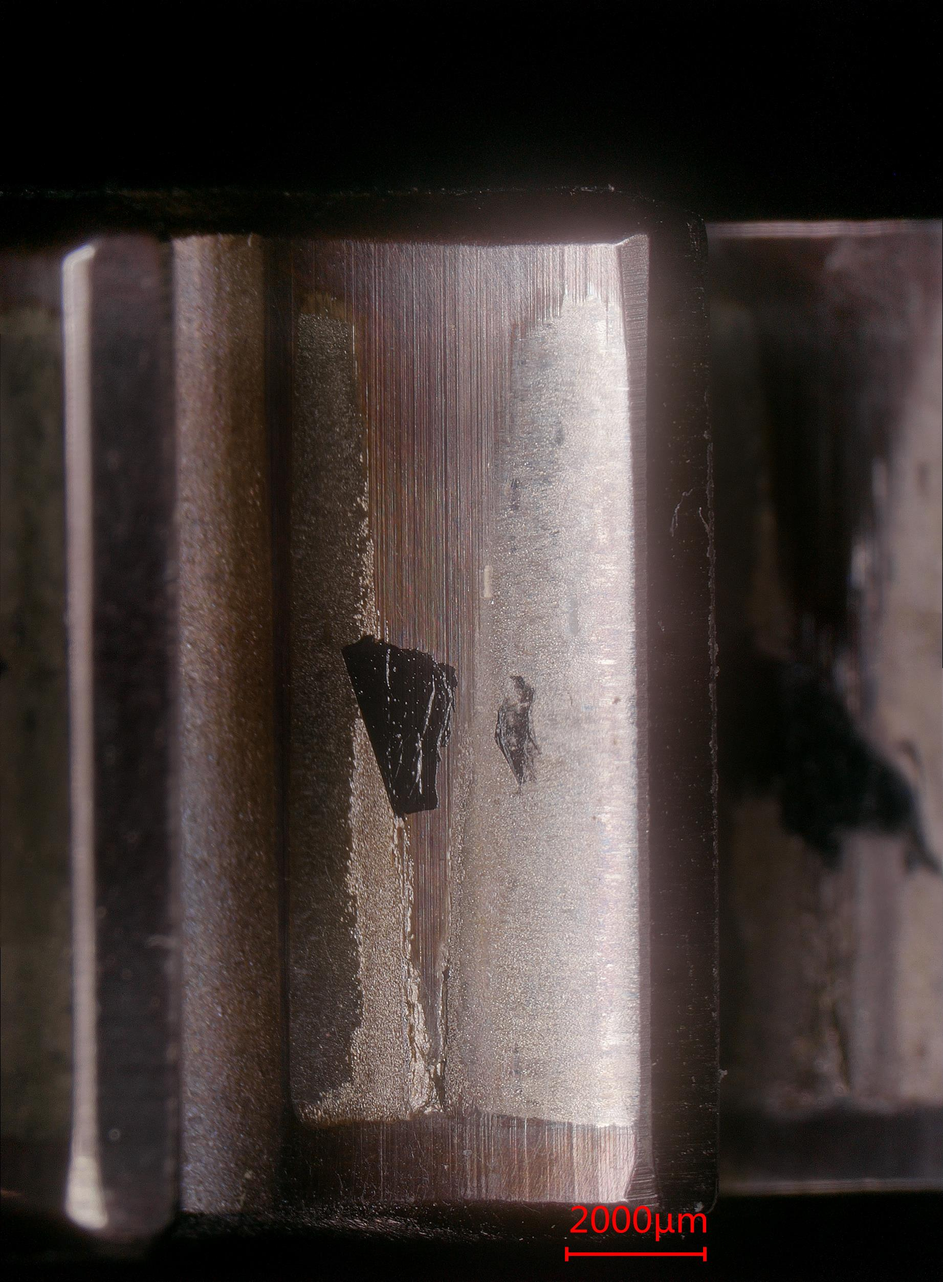Abrasion: (240, 239, 645, 1203)
